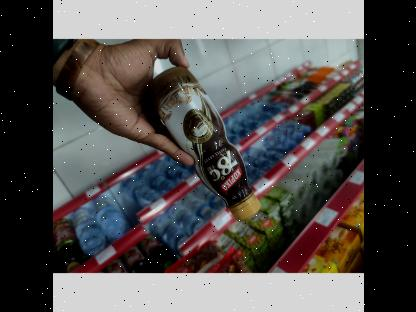Plastic Bottle: (136, 55, 264, 227)
